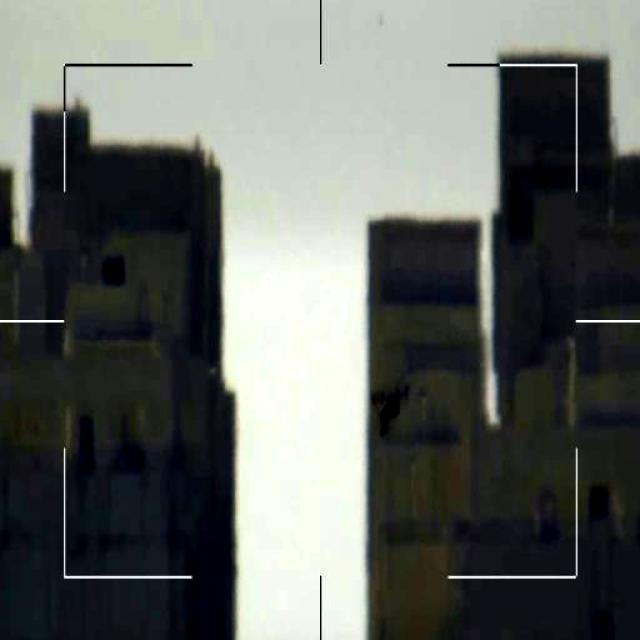bird: (361, 381, 414, 442)
